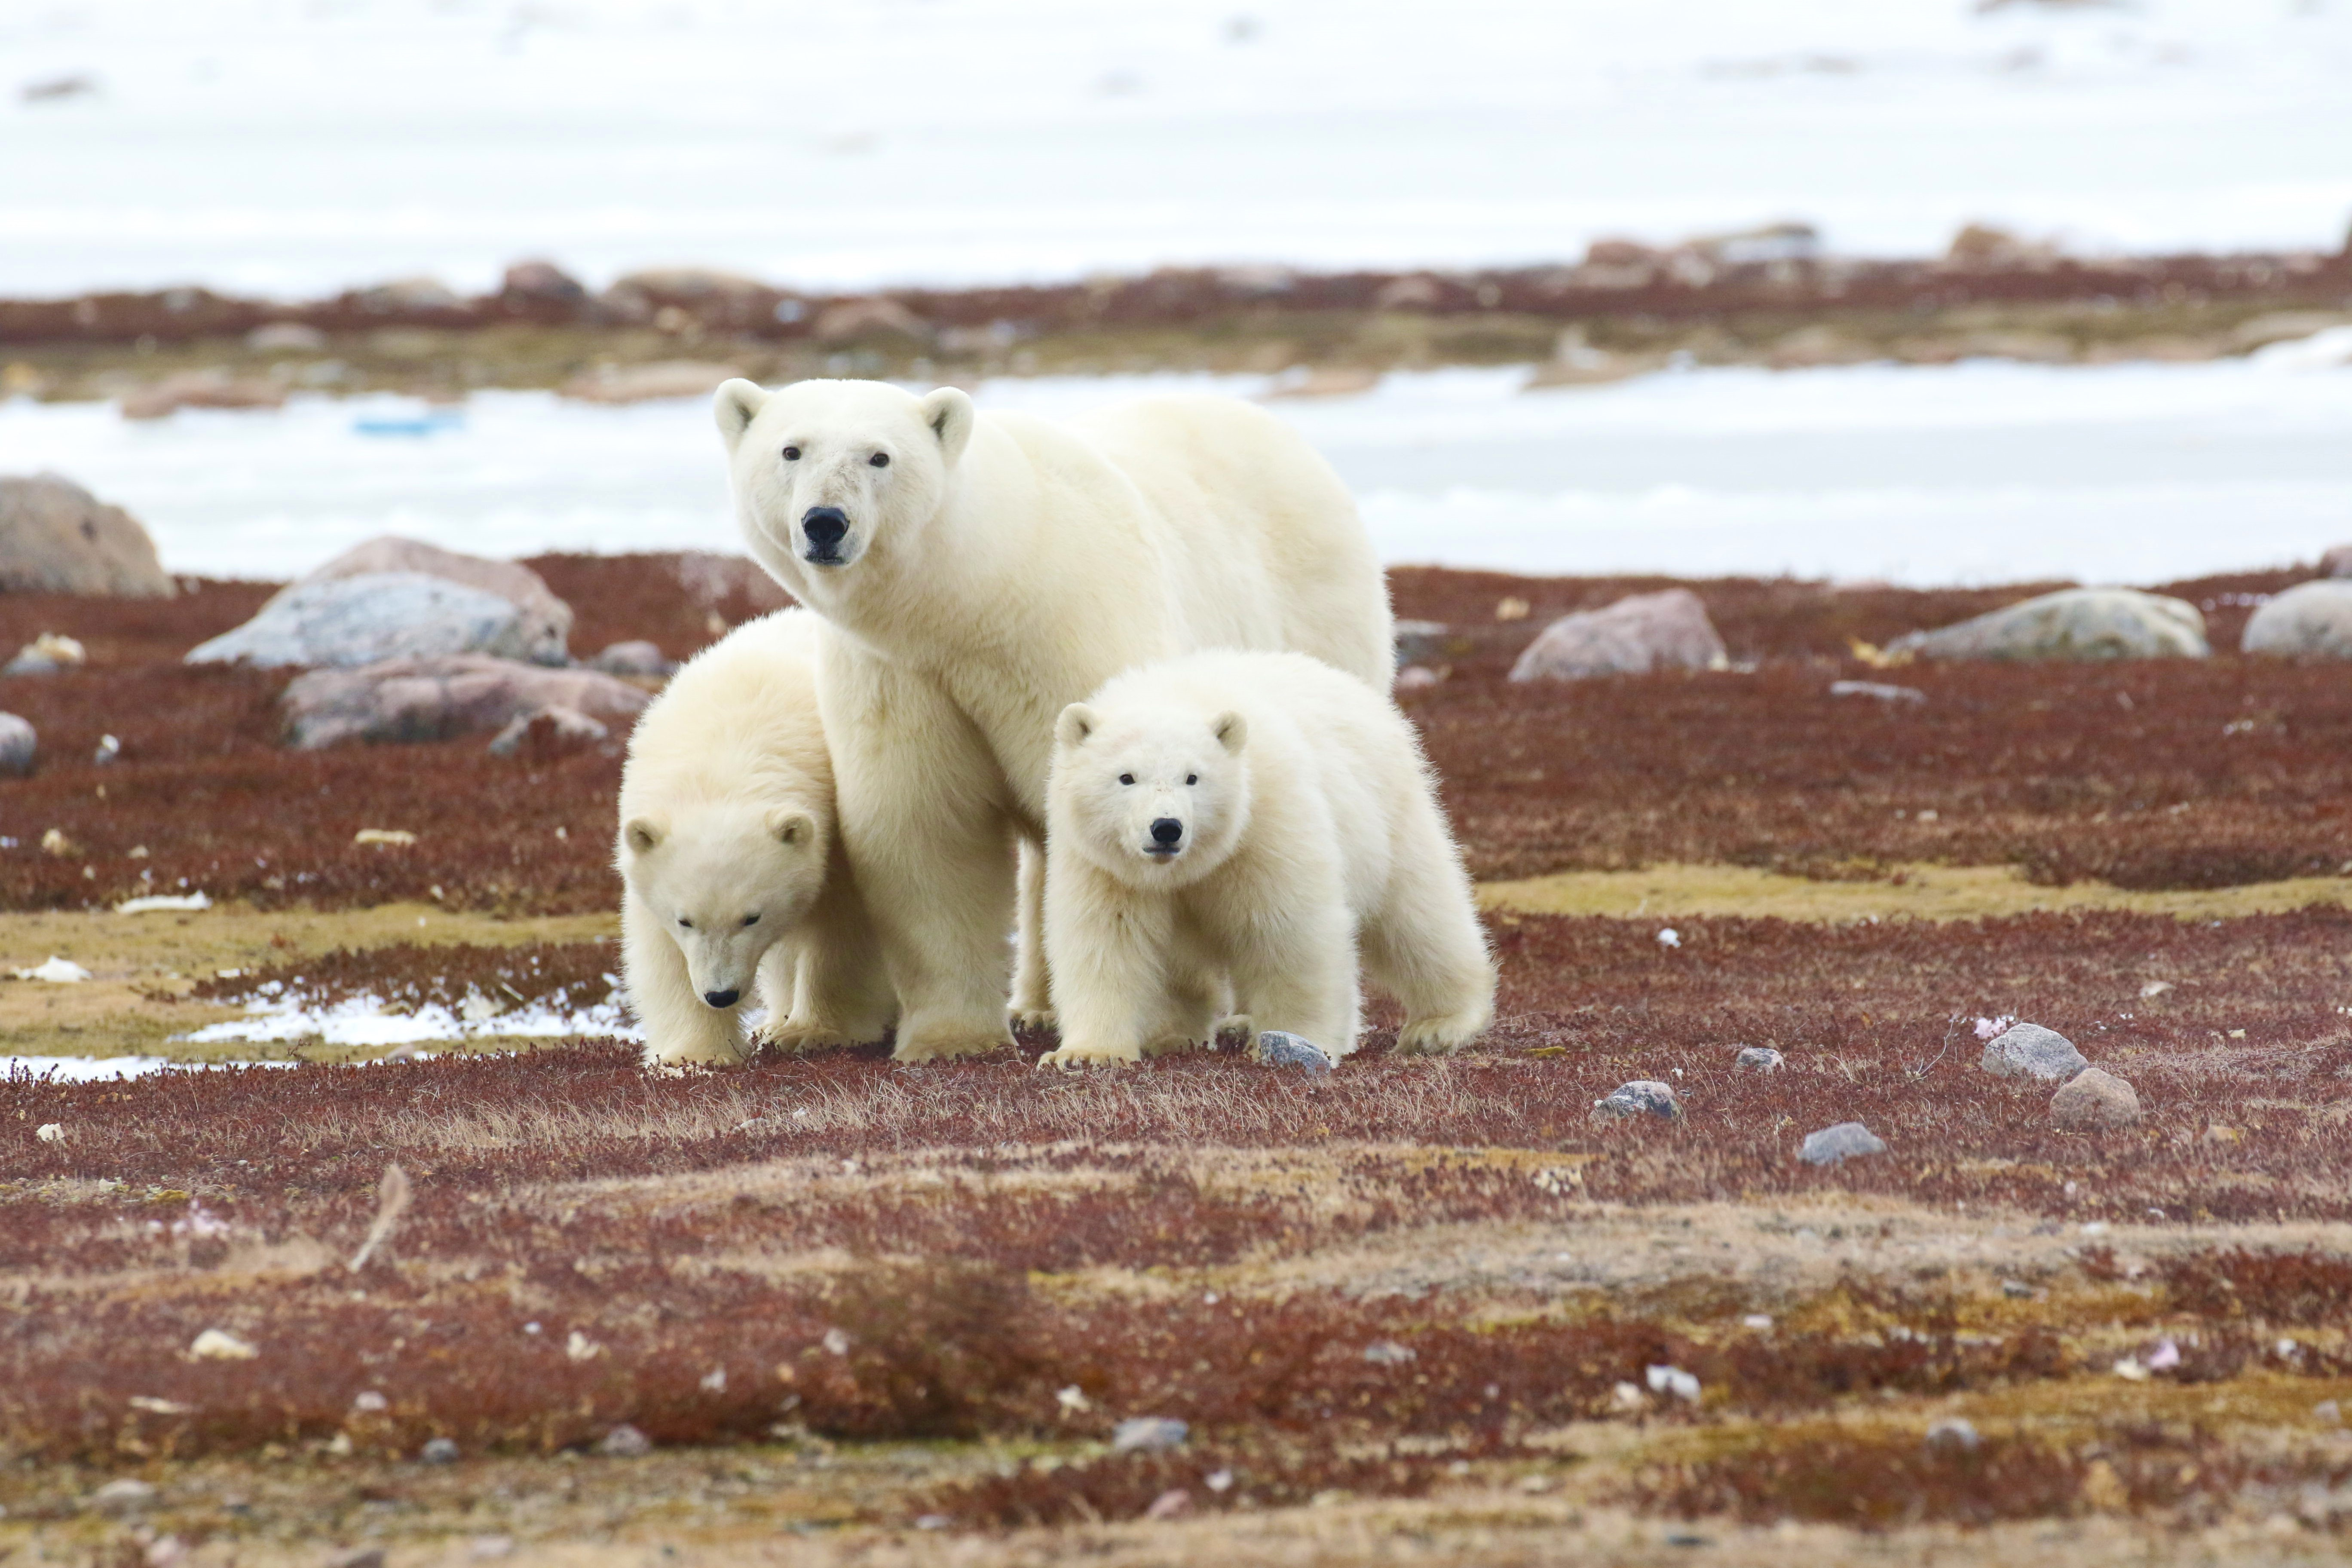PolarBear: (521, 371, 1500, 1101)
